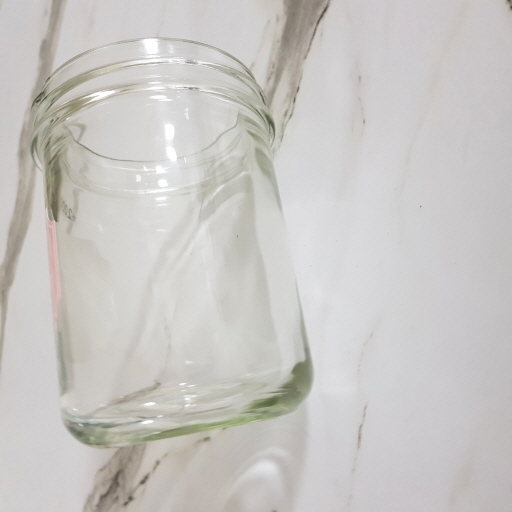Glass_5: (23, 38, 316, 450)
